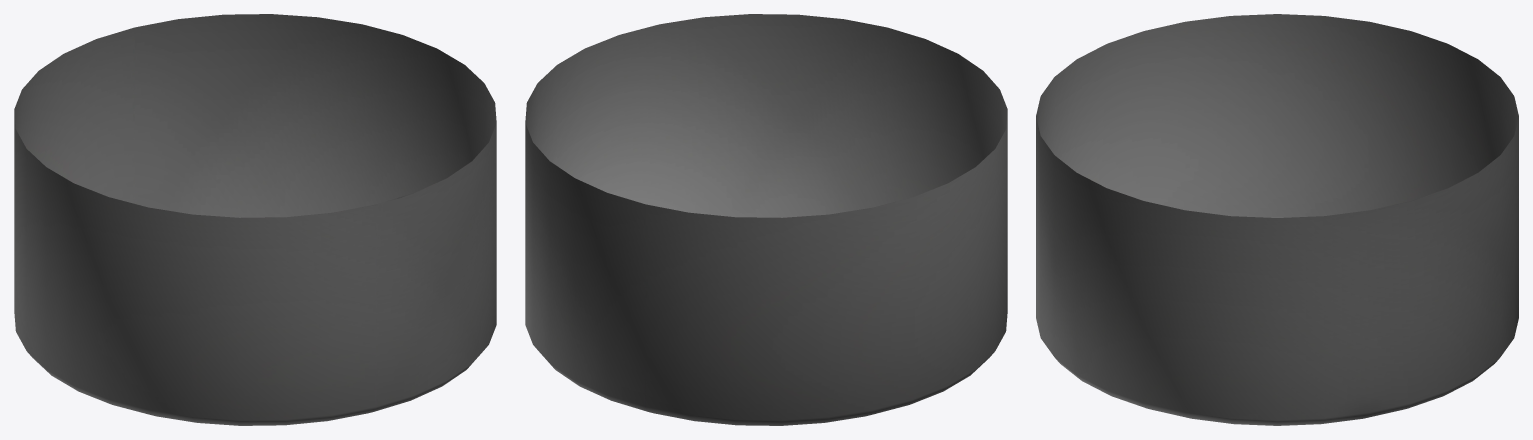
The model's file is studio.gltf.
The picture shows the model from 3 angles, left to right: view 1: azimuth 30°, elevation 25°; view 2: azimuth 150°, elevation 25°; view 3: azimuth 270°, elevation 25°; orthographic projection.
Parts seen in each view (by area): view 1: walls.002; view 2: walls.002; view 3: walls.002.
Boxes of the visible parts, box(x1,y1,x2,y2) form: walls.002: box(14, 14, 496, 425); walls.002: box(525, 14, 1007, 425); walls.002: box(1036, 14, 1518, 425).
Size of the model in its own units: 6.86 by 3.42 by 6.86.
